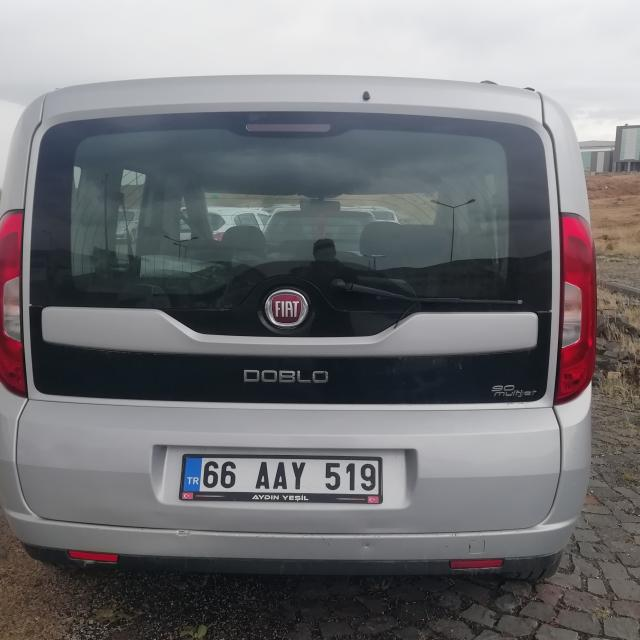license_plate: (182, 454, 381, 494)
